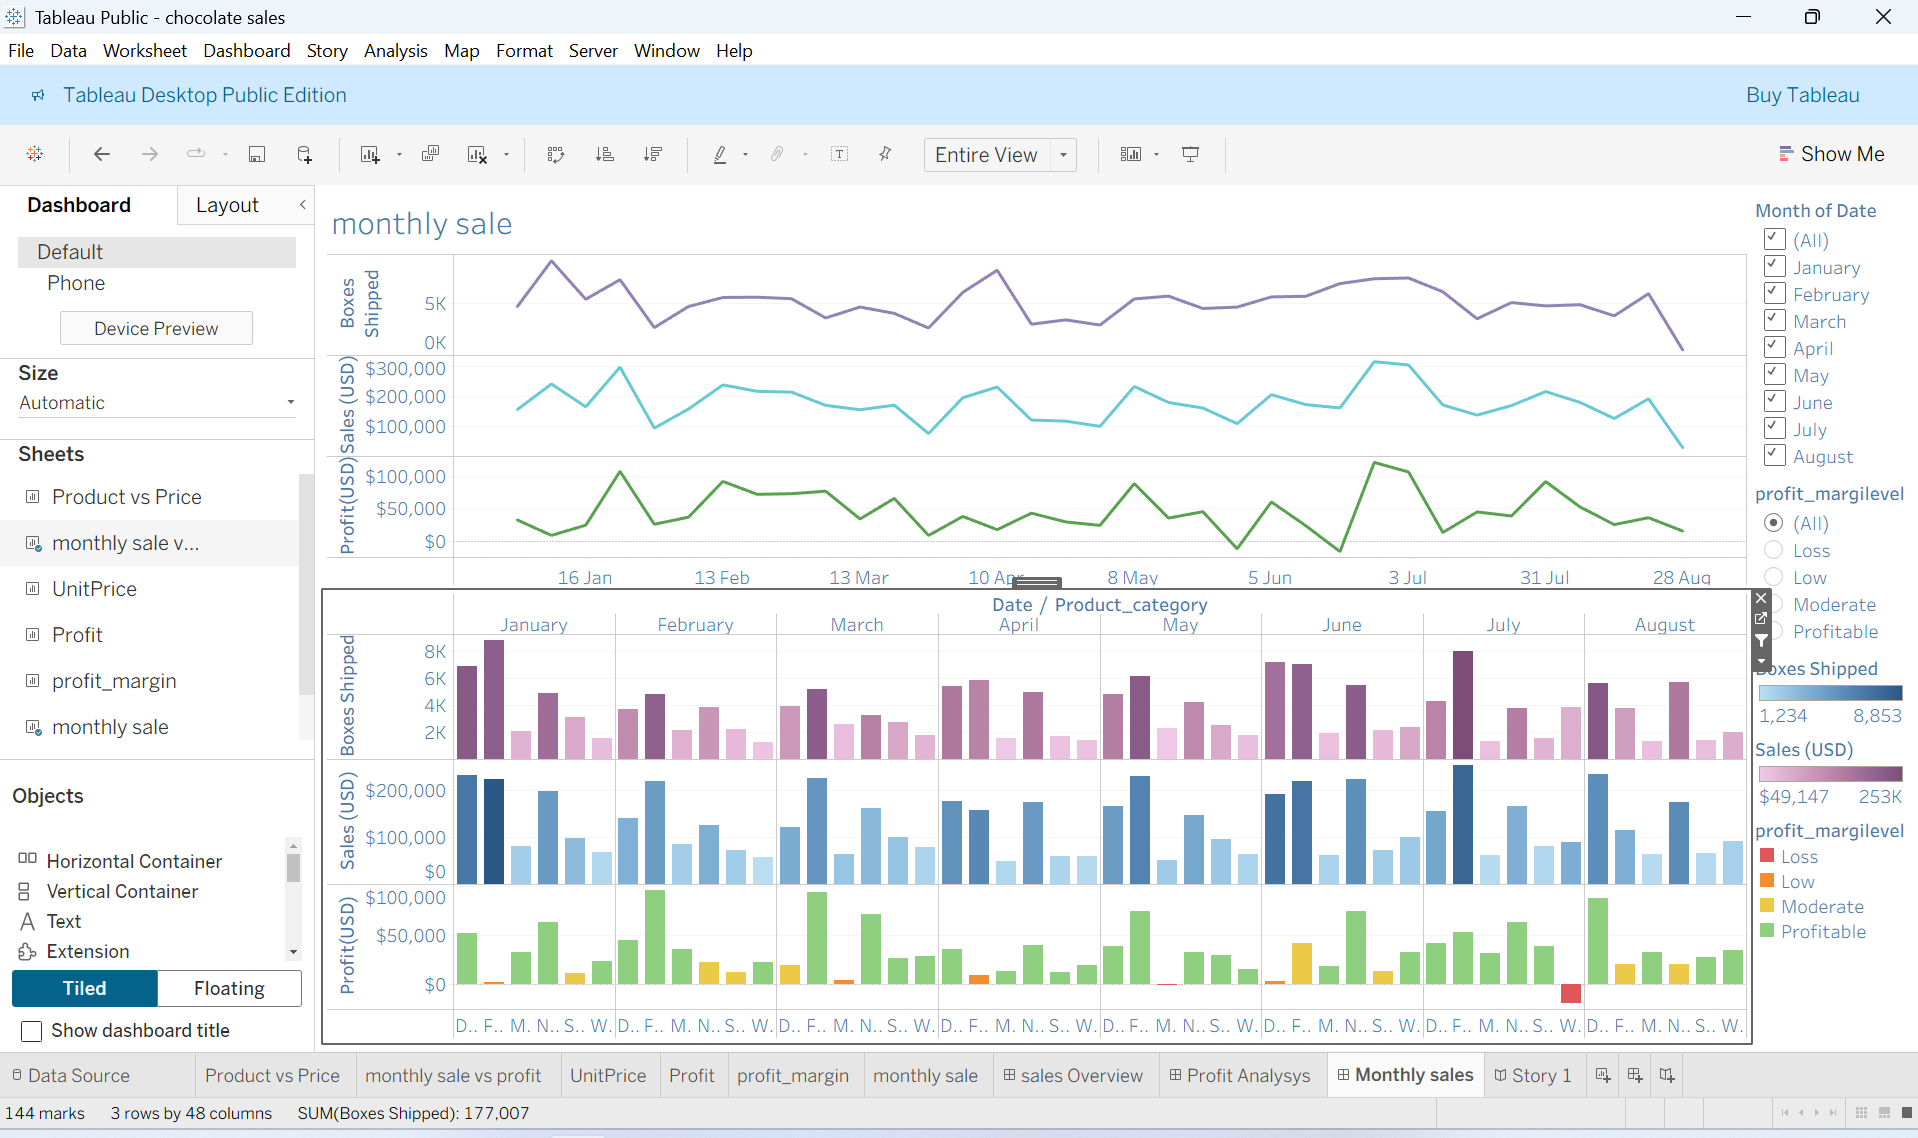

Layout of this report page (visuals, bound fields, positions):
{"tool":"tableau","page":{"name":"Monthly sales","canvas":[1000,1000],"units":"permille","ordinal":0},"visuals":[{"type":"worksheet","title":"monthly sale","mark":"Automatic","rows":["Boxes Shipped","Calculation_1430174423173509122","Calculation_1574571086538612736"],"cols":["Date"],"box":[5,9.2,890.3,458.4]},{"type":"filter","title":"monthly sale","param":"[federated.1tjpulj03pkjac1d1enix0oqddwb].[mn:Date:ok]","box":[895.3,9.2,99.8,326.8]},{"type":"filter","title":"monthly sale vs profit","param":"[federated.1tjpulj03pkjac1d1enix0oqddwb].[usr:Calculation_1600185310352162816:nk","box":[895.3,336,99.8,202.1]},{"type":"worksheet","title":"monthly sale vs profit","mark":"Automatic","rows":["Boxes Shipped","Calculation_1430174423173509122","Calculation_1574571086538612736"],"cols":["Date"],"box":[5,467.7,890.3,523.1]},{"type":"legend","title":"monthly sale vs profit","param":"[federated.1tjpulj03pkjac1d1enix0oqddwb].[sum:Boxes Shipped:qk]","box":[895.3,538.1,99.8,93.5]},{"type":"legend","title":"monthly sale vs profit","param":"[federated.1tjpulj03pkjac1d1enix0oqddwb].[sum:Calculation_1430174423173509122:qk","box":[895.3,631.6,99.8,93.5]},{"type":"legend","title":"monthly sale vs profit","param":"[federated.1tjpulj03pkjac1d1enix0oqddwb].[usr:Calculation_1600185310352162816:nk","box":[895.3,725.2,99.8,154.7]}]}

Visuals, with their boxes on the dashboard's canvas, which has no fixed pixel size, in thousandths of its width and height (x1, y1, x2, y2). These are canvas units, not pixel positions in the 1918x1138 screenshot, which may show the page scaled, cropped or inside an application window:
"monthly sale" worksheet: (x1=5, y1=9, x2=895, y2=468)
"monthly sale" filter: (x1=895, y1=9, x2=995, y2=336)
"monthly sale vs profit" filter: (x1=895, y1=336, x2=995, y2=538)
"monthly sale vs profit" worksheet: (x1=5, y1=468, x2=895, y2=991)
"monthly sale vs profit" legend: (x1=895, y1=538, x2=995, y2=632)
"monthly sale vs profit" legend: (x1=895, y1=632, x2=995, y2=725)
"monthly sale vs profit" legend: (x1=895, y1=725, x2=995, y2=880)
